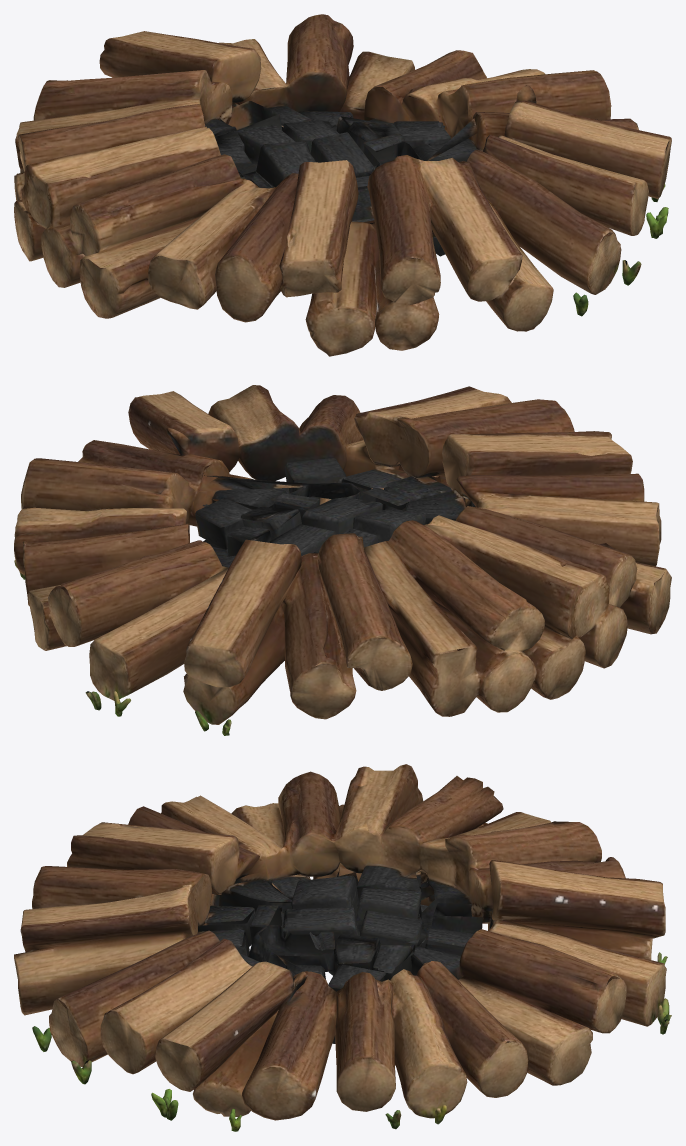
Rendered from huodui.fbx.
3 renders of one model, top to bottom at view 1: azimuth 30°, elevation 25°; view 2: azimuth 150°, elevation 25°; view 3: azimuth 270°, elevation 25°, orthographic. The views are drawn at different scales.
Parts seen in each view (by area): view 1: tripo_node_3051ec9e; view 2: tripo_node_3051ec9e; view 3: tripo_node_3051ec9e.
Boxes of the visible parts, x1,y1,x2,y2 form: tripo_node_3051ec9e: (14,14,671,356); tripo_node_3051ec9e: (14,385,671,735); tripo_node_3051ec9e: (14,764,671,1131).
Size of the model in its own units: 97.06 by 99.41 by 22.7.
Materials: 1 (1 with a texture image).
